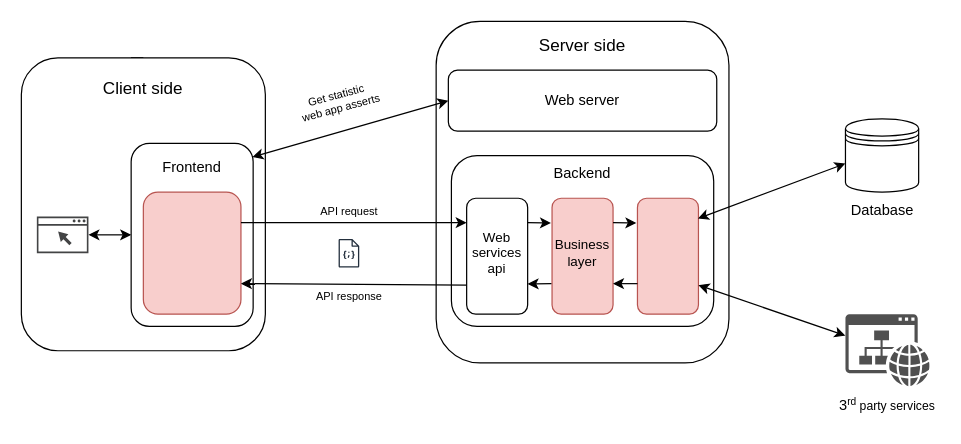
The diagram is 961 pixels wide and 444 high, and some of its shapes have lost their labels. The centre of each missing label's shape, as x and y in pixels:
"Data layer" goes at [667,255].
"Presentation Layer" goes at [191,252].
